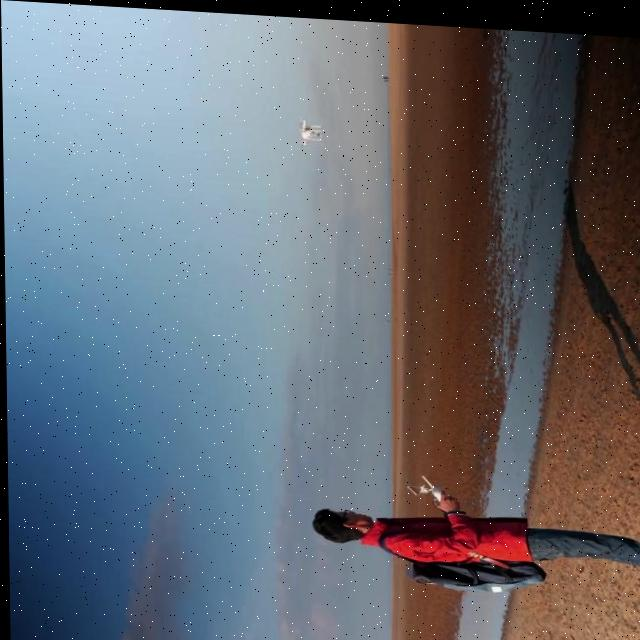drone: (293, 113, 324, 148)
